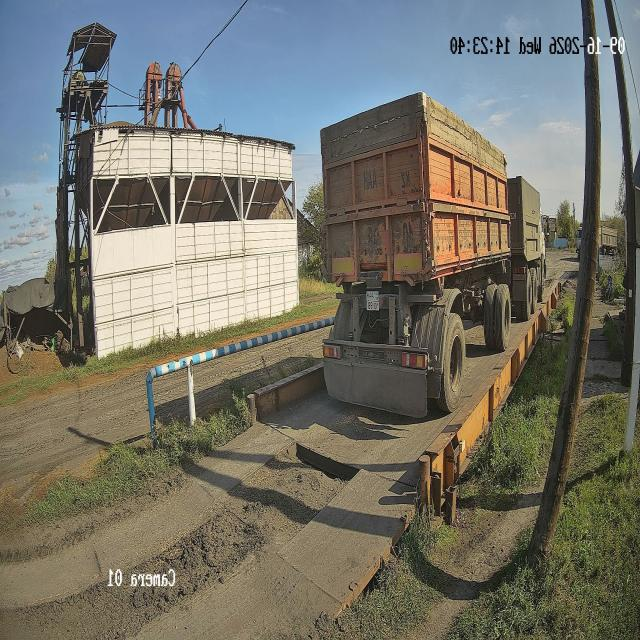license plate: (366, 290, 380, 310)
trailer: (321, 92, 512, 417), (599, 225, 618, 256)
truck: (508, 176, 546, 321), (599, 225, 618, 257), (577, 225, 582, 257)
